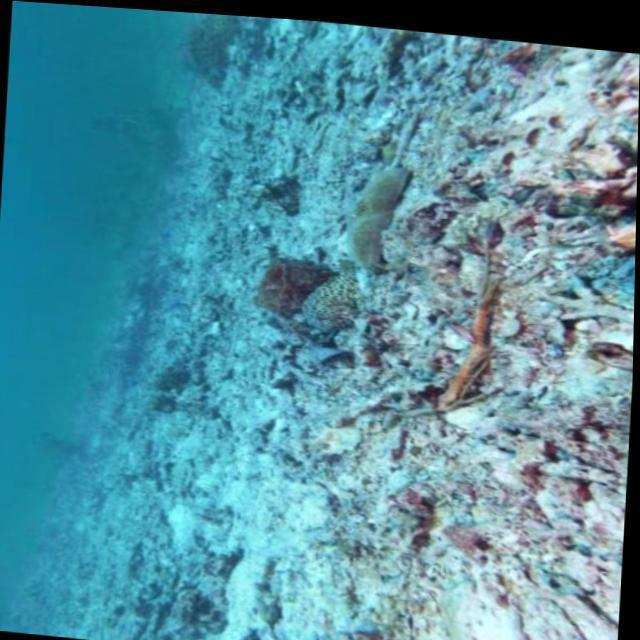Dead Coral: (172, 27, 622, 640)
